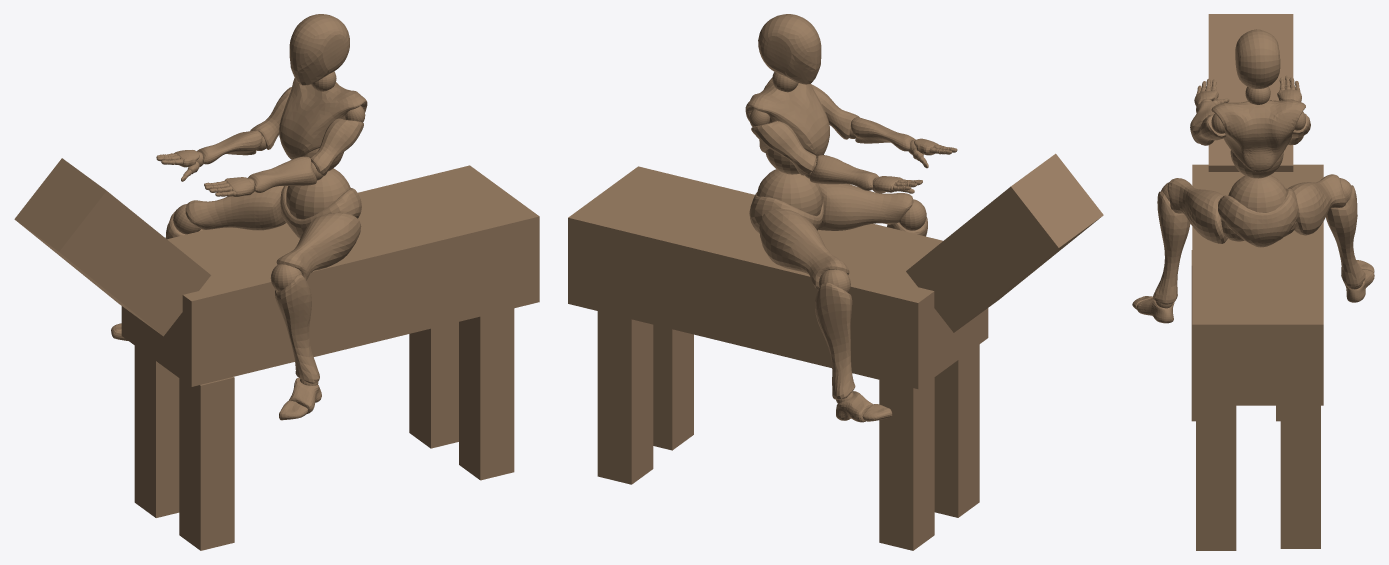
The model's file is quadruped-ridable.glb.
The picture shows the model from 3 angles, left to right: view 1: azimuth 30°, elevation 25°; view 2: azimuth 150°, elevation 25°; view 3: azimuth 270°, elevation 25°; orthographic projection. The views are drawn at different scales.
Parts seen in each view (by area): view 1: xier120.quadruped-ridable.mesh.007, xier120.quadruped-ridable.mesh.006, xier120.quadruped-ridable.mesh.004, xier120.quadruped-ridable.mesh.002, xier120.quadruped-ridable.mesh.003, xier120.quadruped-ridable.mesh.008, xier120.quadruped-ridable.mesh.001, xier120.quadruped-ridable.mesh.000; view 2: xier120.quadruped-ridable.mesh.007, xier120.quadruped-ridable.mesh.006, xier120.quadruped-ridable.mesh.004, xier120.quadruped-ridable.mesh.001, xier120.quadruped-ridable.mesh.008, xier120.quadruped-ridable.mesh.002, xier120.quadruped-ridable.mesh.003, xier120.quadruped-ridable.mesh.000; view 3: xier120.quadruped-ridable.mesh.007, xier120.quadruped-ridable.mesh.006, xier120.quadruped-ridable.mesh.003, xier120.quadruped-ridable.mesh.001, xier120.quadruped-ridable.mesh.004, xier120.quadruped-ridable.mesh.000, xier120.quadruped-ridable.mesh.002.
Boxes of the visible parts, x1=… form: xier120.quadruped-ridable.mesh.007: x1=121, y1=165, x2=539, y2=386; xier120.quadruped-ridable.mesh.006: x1=111, y1=14, x2=367, y2=420; xier120.quadruped-ridable.mesh.004: x1=14, y1=158, x2=210, y2=336; xier120.quadruped-ridable.mesh.002: x1=179, y1=377, x2=234, y2=550; xier120.quadruped-ridable.mesh.003: x1=459, y1=308, x2=514, y2=480; xier120.quadruped-ridable.mesh.008: x1=134, y1=346, x2=179, y2=517; xier120.quadruped-ridable.mesh.001: x1=409, y1=322, x2=458, y2=448; xier120.quadruped-ridable.mesh.000: x1=162, y1=71, x2=365, y2=402; xier120.quadruped-ridable.mesh.007: x1=568, y1=166, x2=988, y2=388; xier120.quadruped-ridable.mesh.006: x1=745, y1=14, x2=957, y2=422; xier120.quadruped-ridable.mesh.004: x1=906, y1=153, x2=1103, y2=332; xier120.quadruped-ridable.mesh.001: x1=597, y1=311, x2=653, y2=484; xier120.quadruped-ridable.mesh.008: x1=879, y1=377, x2=934, y2=550; xier120.quadruped-ridable.mesh.002: x1=934, y1=344, x2=979, y2=517; xier120.quadruped-ridable.mesh.003: x1=653, y1=324, x2=693, y2=450; xier120.quadruped-ridable.mesh.000: x1=749, y1=72, x2=951, y2=408; xier120.quadruped-ridable.mesh.007: x1=1192, y1=164, x2=1323, y2=405; xier120.quadruped-ridable.mesh.006: x1=1132, y1=29, x2=1374, y2=323; xier120.quadruped-ridable.mesh.003: x1=1196, y1=405, x2=1236, y2=550; xier120.quadruped-ridable.mesh.001: x1=1280, y1=405, x2=1320, y2=548; xier120.quadruped-ridable.mesh.004: x1=1208, y1=14, x2=1293, y2=171; xier120.quadruped-ridable.mesh.000: x1=1156, y1=78, x2=1362, y2=308; xier120.quadruped-ridable.mesh.002: x1=1191, y1=250, x2=1195, y2=421.
Bounding box in the file's own units: 2.08 × 1.99 × 0.9825.
